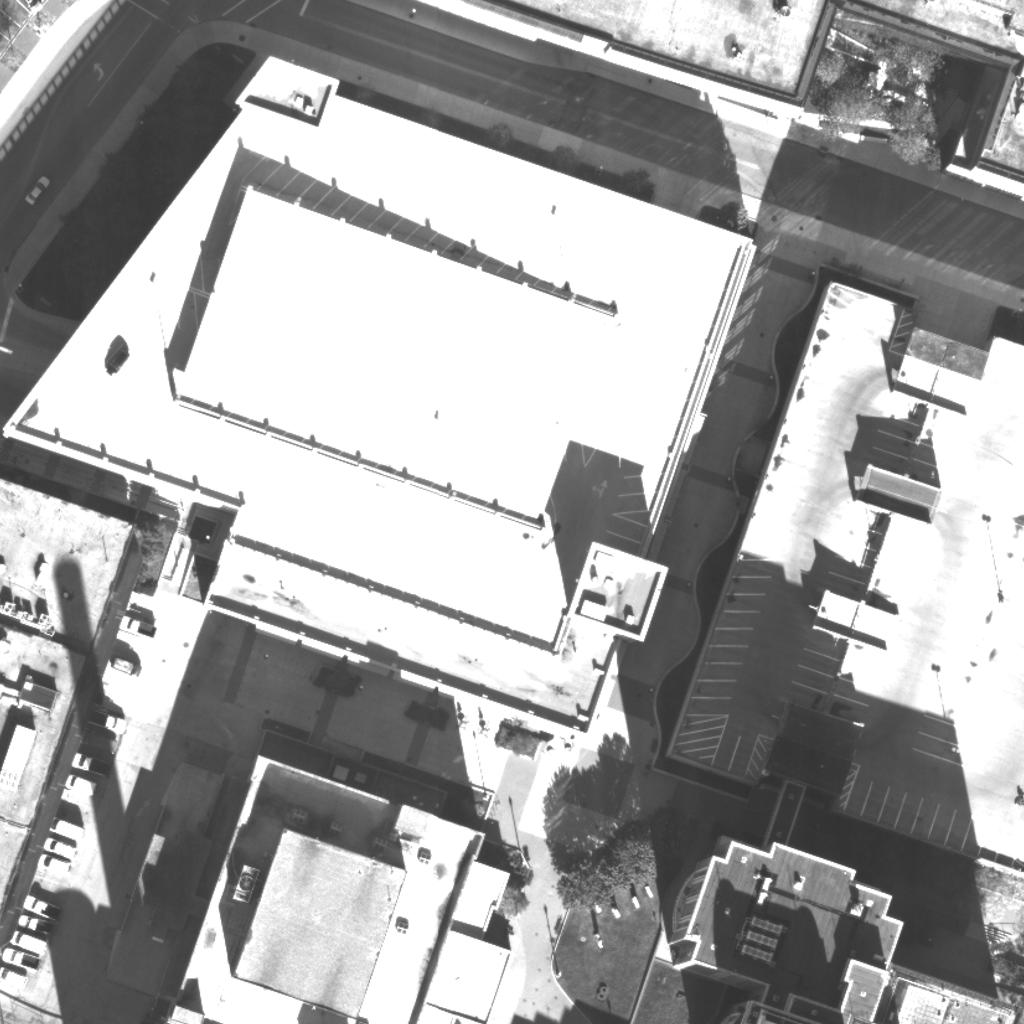car: (19, 171, 53, 205), (100, 343, 134, 377), (116, 607, 150, 641), (107, 647, 141, 681), (90, 704, 124, 738), (68, 745, 102, 779), (60, 765, 94, 799), (42, 808, 76, 842), (37, 826, 71, 860), (33, 844, 67, 878), (19, 886, 53, 920), (15, 905, 49, 939), (5, 922, 39, 956), (6, 922, 40, 956), (0, 942, 33, 976), (0, 959, 25, 993)
